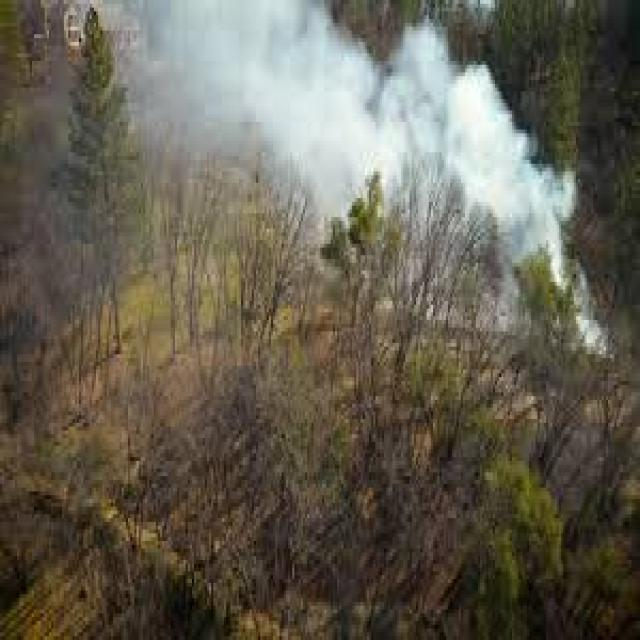Smoke: (165, 0, 542, 189), (450, 59, 579, 238), (560, 240, 616, 360)
